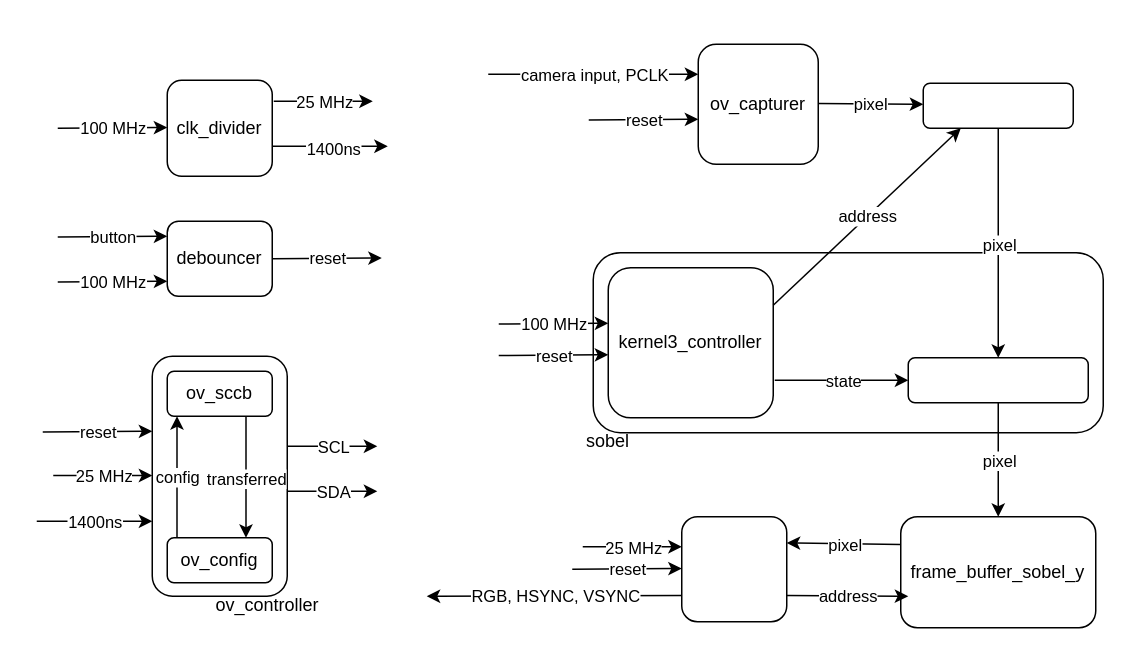
The diagram is 1130 pixels wide and 654 high, and some of its shapes have lost their labels. The shapes that lost their labels are listed below. From the top down, each one's centre as x and y in pixels, then its label:
At [997,105]: "frame_buffer_y".
At [997,379]: "kernel3_convolutor".
At [733,568]: "vga".
